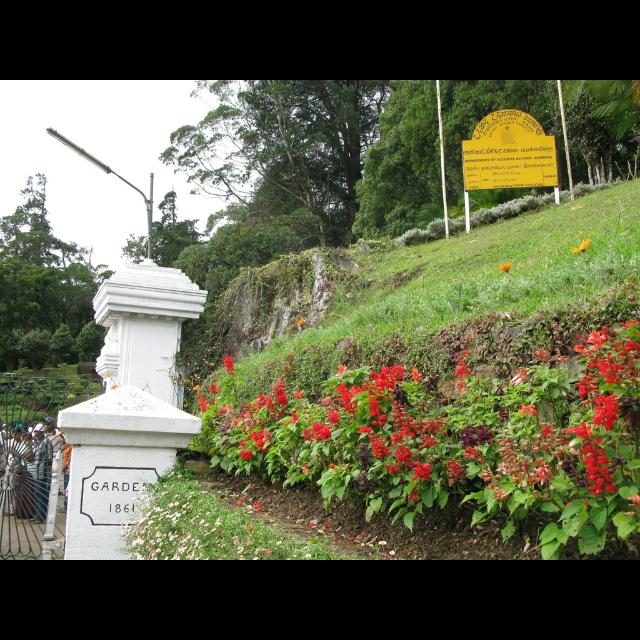Flower: (582, 450, 630, 504), (216, 396, 274, 428), (414, 416, 450, 446), (368, 363, 402, 393), (563, 426, 601, 450), (576, 368, 600, 406), (592, 395, 616, 429), (598, 352, 620, 383), (367, 395, 387, 429), (392, 403, 412, 437), (620, 320, 640, 354), (441, 462, 467, 486), (449, 353, 473, 379), (462, 428, 491, 448), (335, 388, 357, 414), (530, 462, 552, 486), (308, 423, 332, 443), (368, 436, 388, 460), (195, 391, 215, 414), (586, 332, 608, 348), (412, 462, 430, 480), (252, 430, 268, 450), (275, 382, 289, 404), (222, 354, 234, 376), (572, 240, 588, 256), (520, 402, 536, 416), (238, 449, 252, 463), (501, 262, 514, 274), (298, 316, 304, 326)
